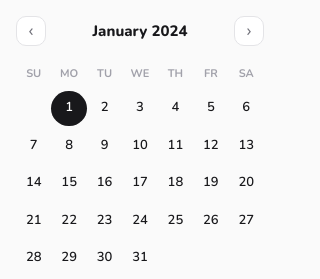
RangeCalendar › navigates to the next month when Next month is clicked
The image size is (320, 279).
Check: the text "January 2024" is shown, box [92,20,188,42]
What coordinates should you click on to do the following:
click the button named "Next month"
I would click on:
 (249, 31)
Its box is [234,16,264,46].
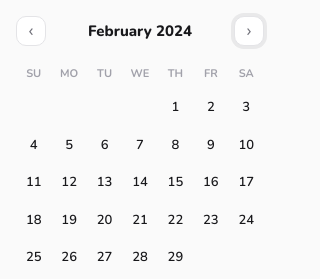
Check: the text "February 2024" is shown, box [88,20,192,42]
